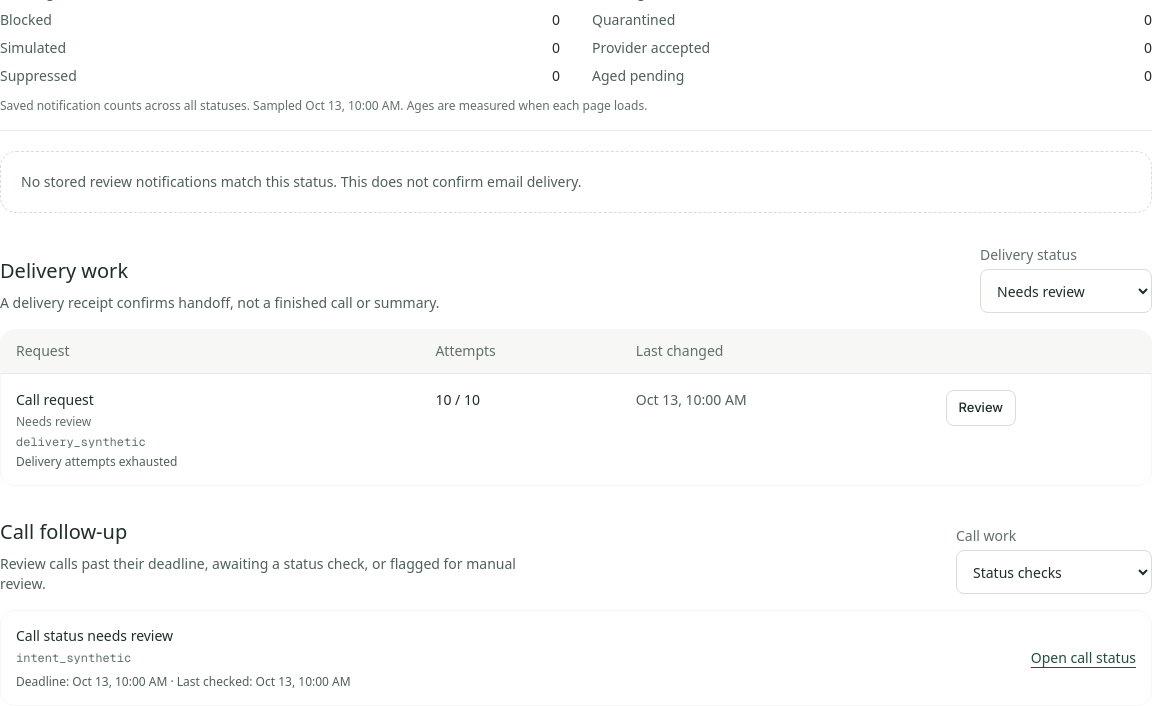
Test: Operations workspace › explains blocked SUMMARY_RETRY_UNSAFE without offering any recovery action
The width and height of the screenshot is (1152, 706).
(page scrolled)
Step 1. Click the button with aria-label "Review call request delivery_synthetic" → point(981, 408), box top-left (946, 390), bottom-right (1016, 426)
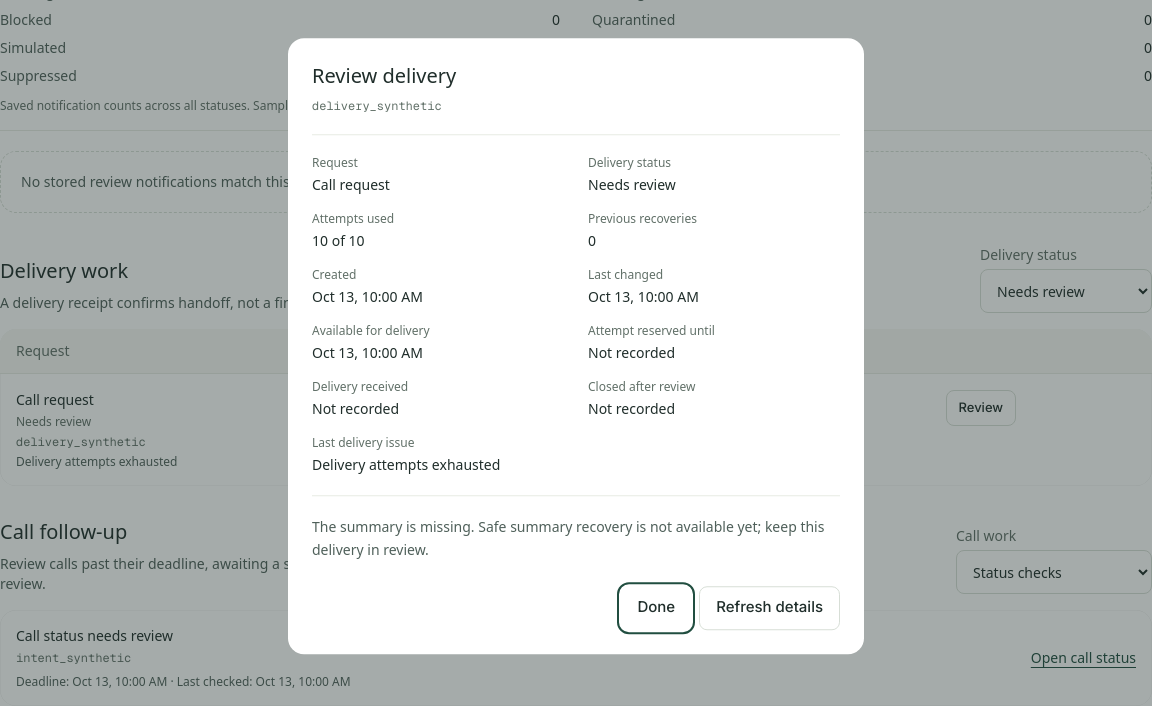
Expected: the text "The summary is missing. Safe summary recovery is not available yet; keep this delivery in review." is shown, top-left (312, 517), bottom-right (824, 559)
